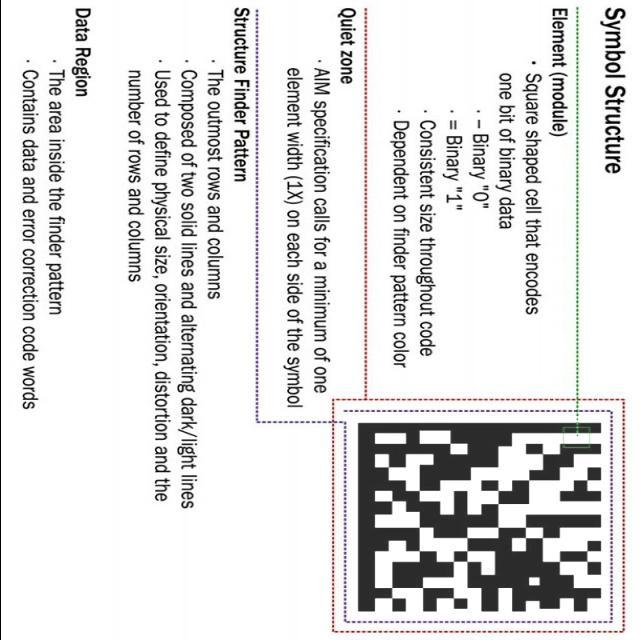Data-Matrix: (350, 416, 607, 618)
